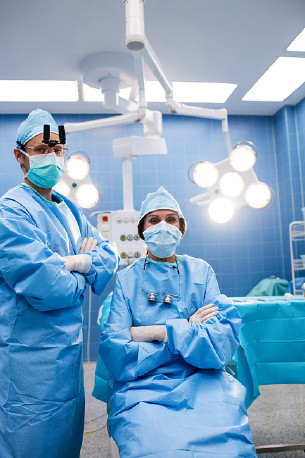face_mask: (26, 132, 65, 188), (144, 209, 180, 257)
